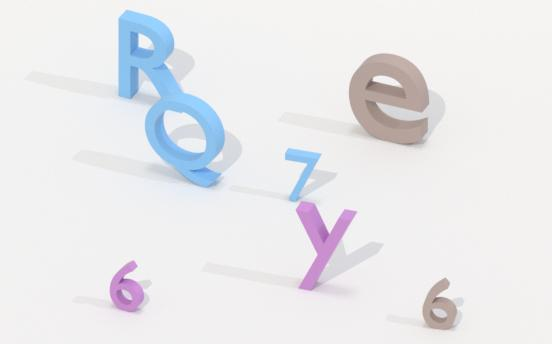6: (419, 276, 465, 332), (107, 259, 151, 312)
7: (282, 145, 321, 206)
R-hoa: (113, 8, 185, 105)
Y: (294, 201, 357, 297)
e: (347, 47, 432, 148)
q: (143, 93, 227, 193)
